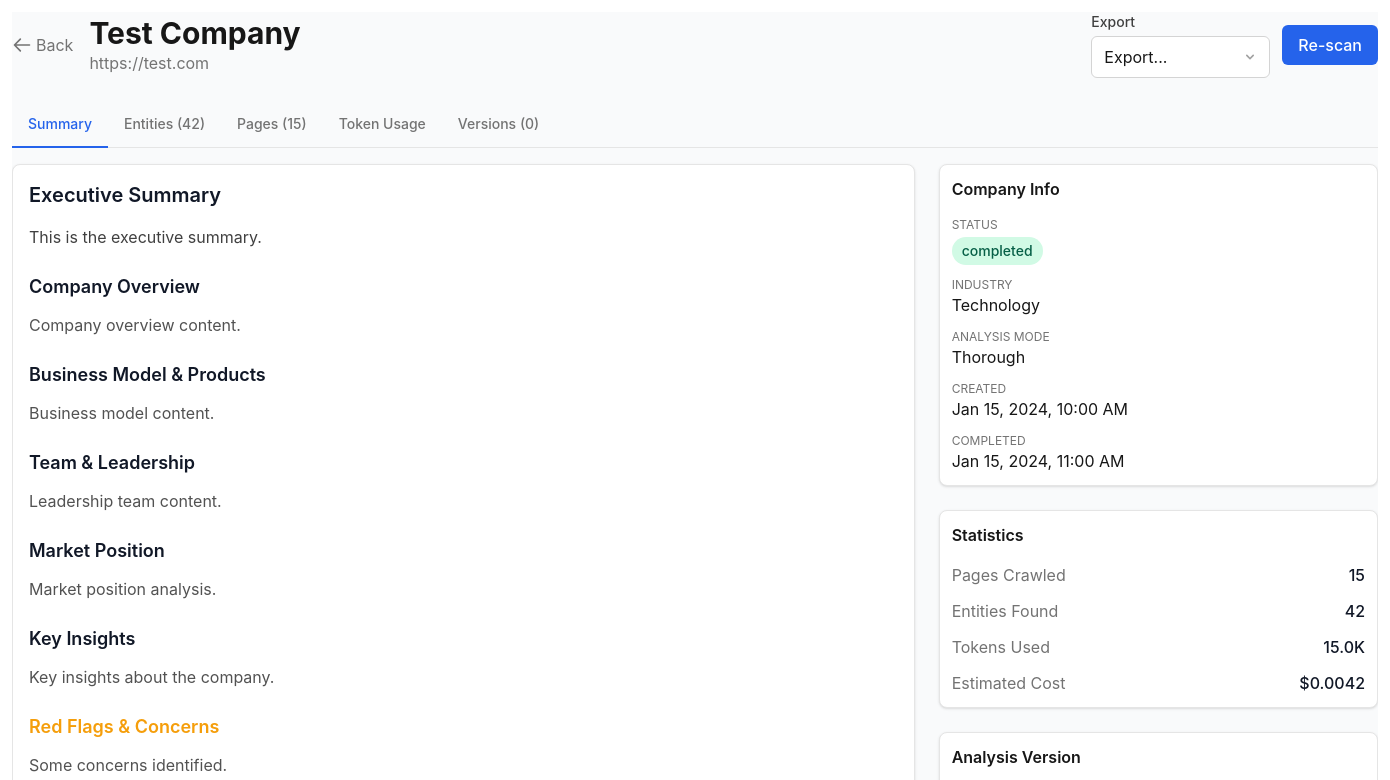
Scenario: Export UI Tests (UI-06) › Export Loading State (UI-06) › dropdown disabled during export
Step 1. Select "Markdown (.md)" in the dropdown labelled "Export" → [1181, 57], box [1091,36,1270,78]
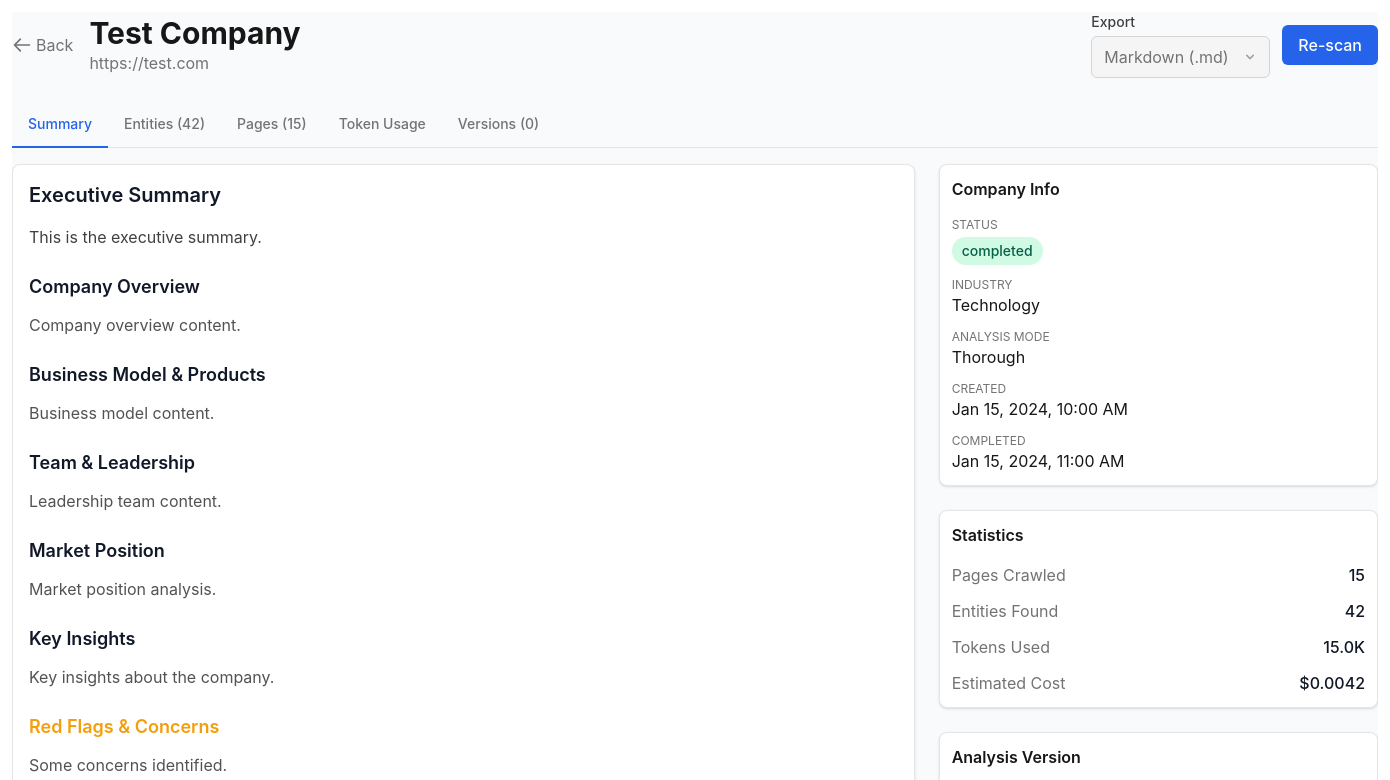
Expected: the dropdown labelled "Export" is disabled, [1091,36,1270,78]
